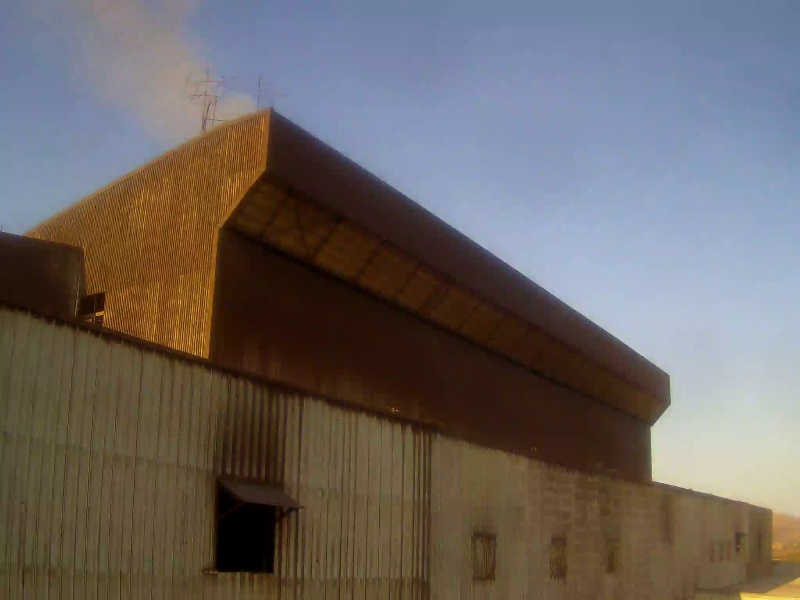bom: (355, 13, 787, 483), (296, 43, 594, 309), (631, 235, 796, 454)
ruim: (37, 2, 264, 132)
